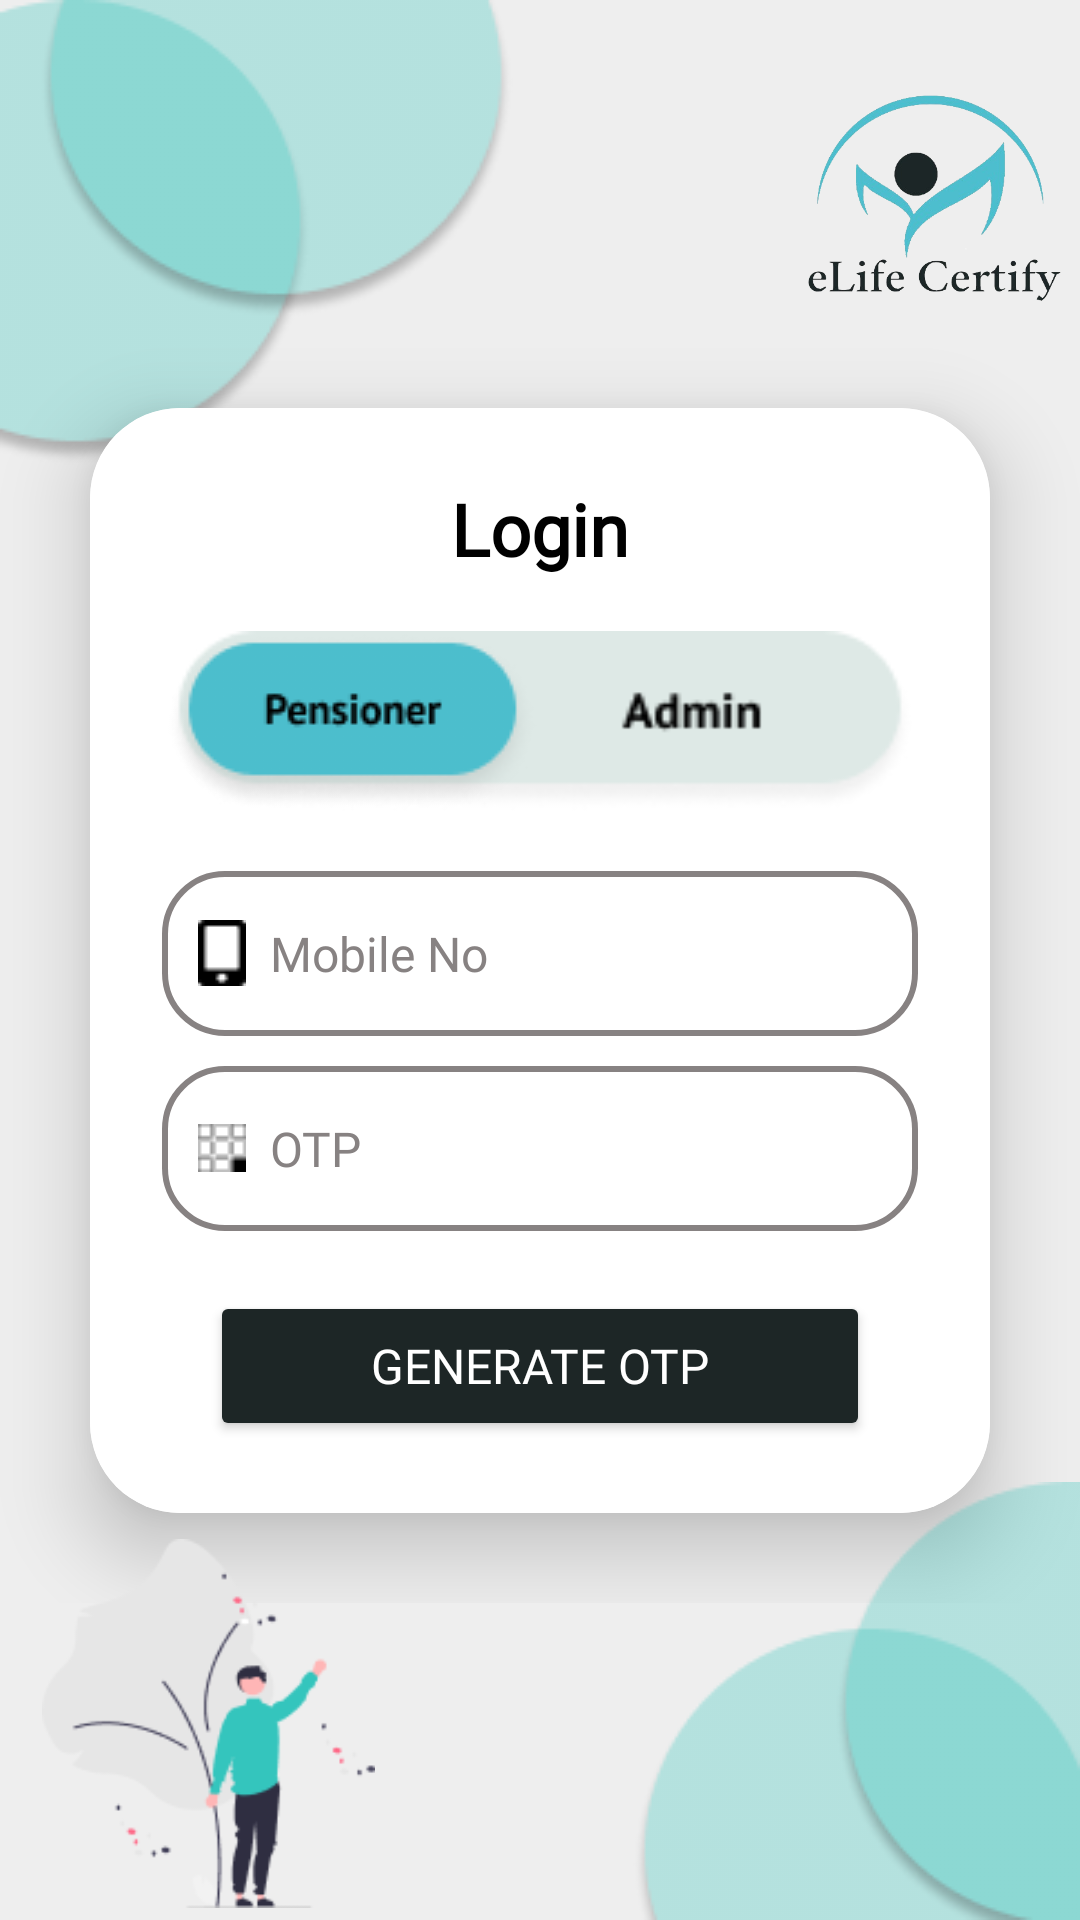

Screen size 1080 × 1920. Icon name, then its box in pixels as [x1,y1,x2,y2]:
man: [72,1573,375,1908]
